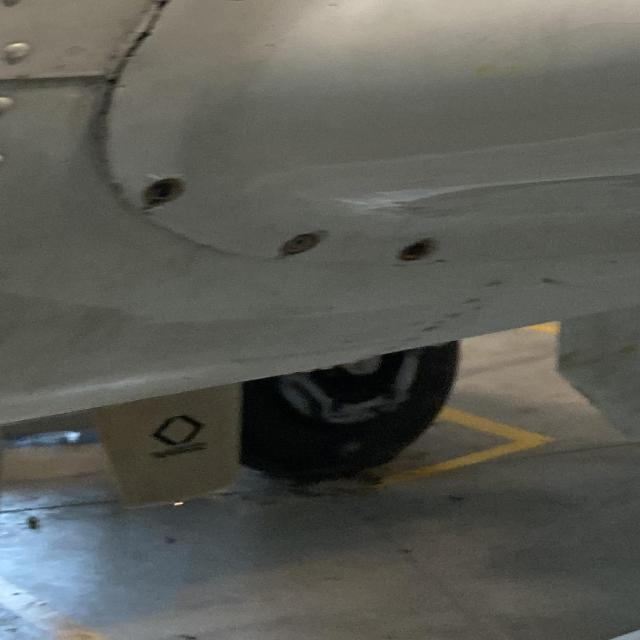Crack: (74, 0, 188, 103)
Missing_Fastener: (142, 174, 185, 208), (394, 234, 434, 266)
